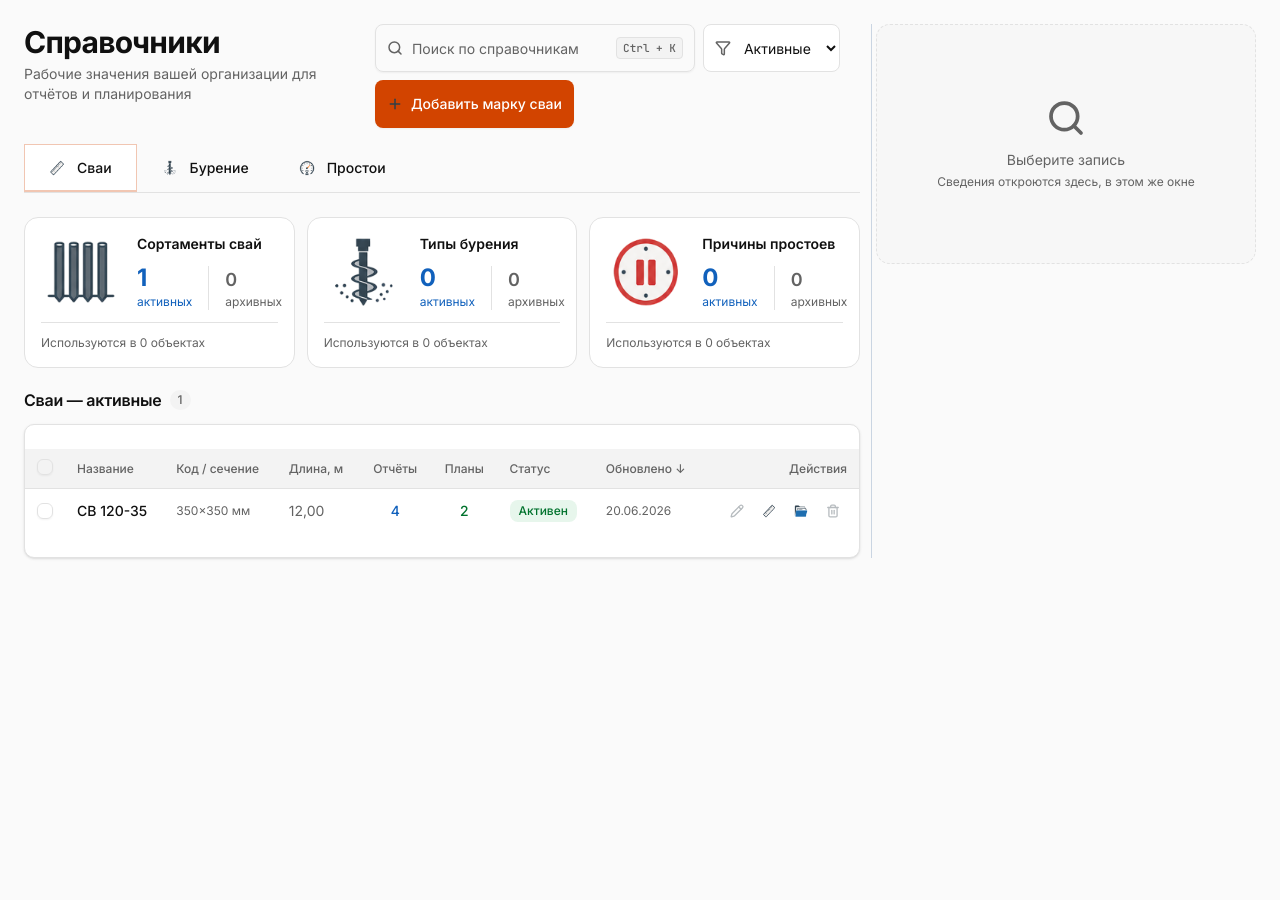
Test: AdminDictionaries › не даёт отправить название длиннее 100 символов и длину больше 1000 м
Check: the text "СВ 120-35" is shown, box [65,488,164,533]
Click the button "Добавить марку сваи": (474, 104) [375,80,574,128]
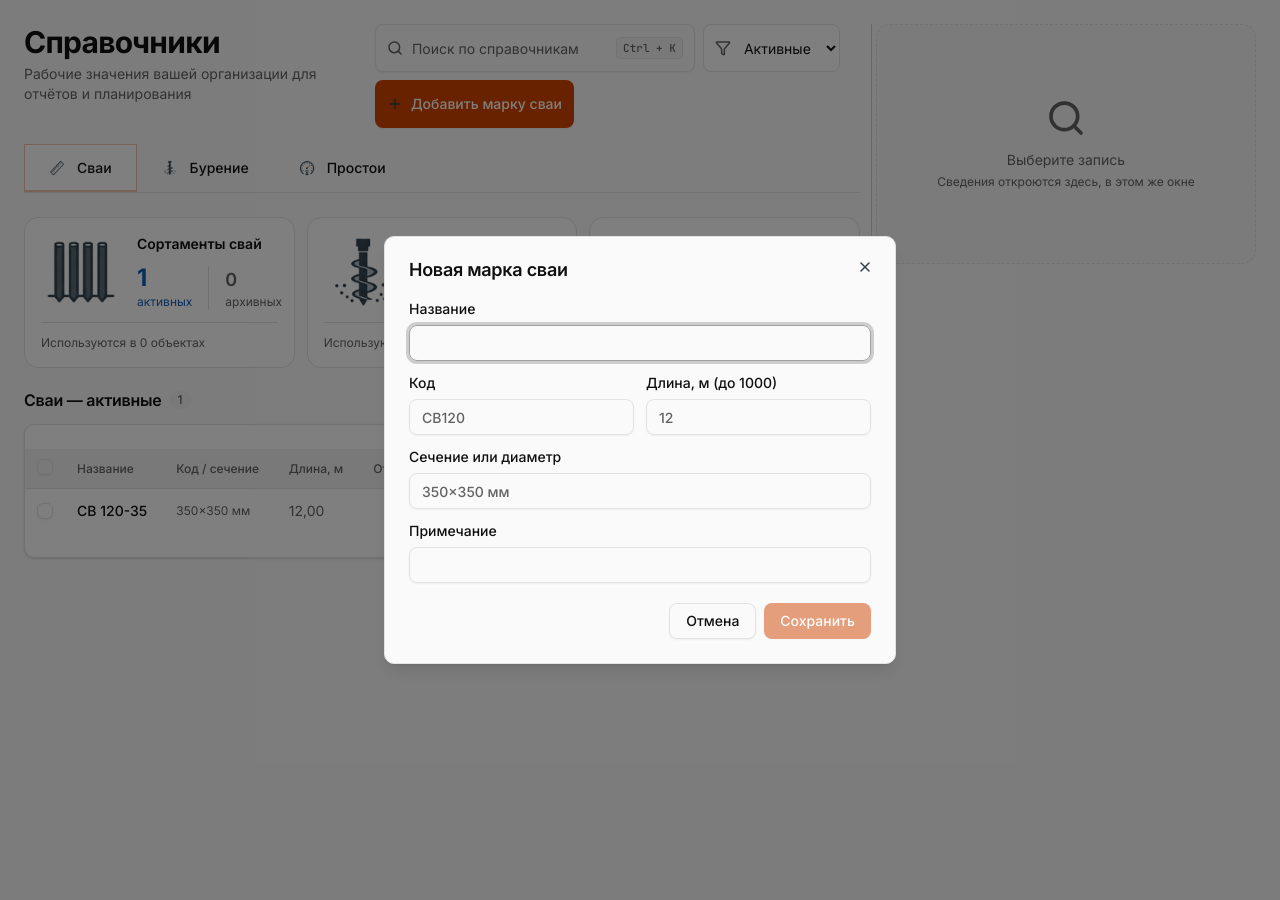
Check: the text "Длина, м (до 1000)" is shown, box [646,373,871,435]
In the field labelled "Название": (640, 343) [409,325,871,361], type "СВ 150-50"
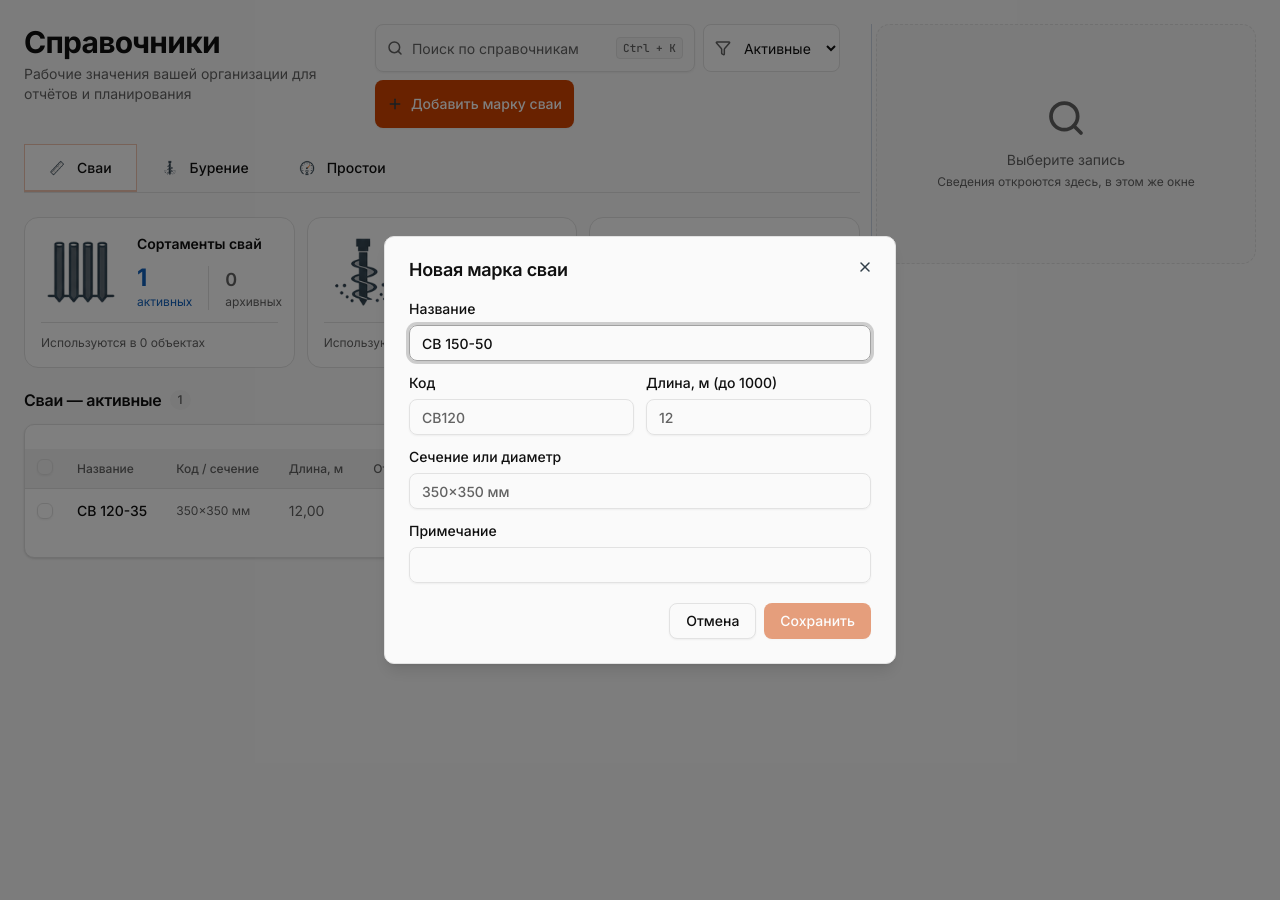
In the field labelled "Длина, м": (758, 417) [646,399,871,435], type "1500"
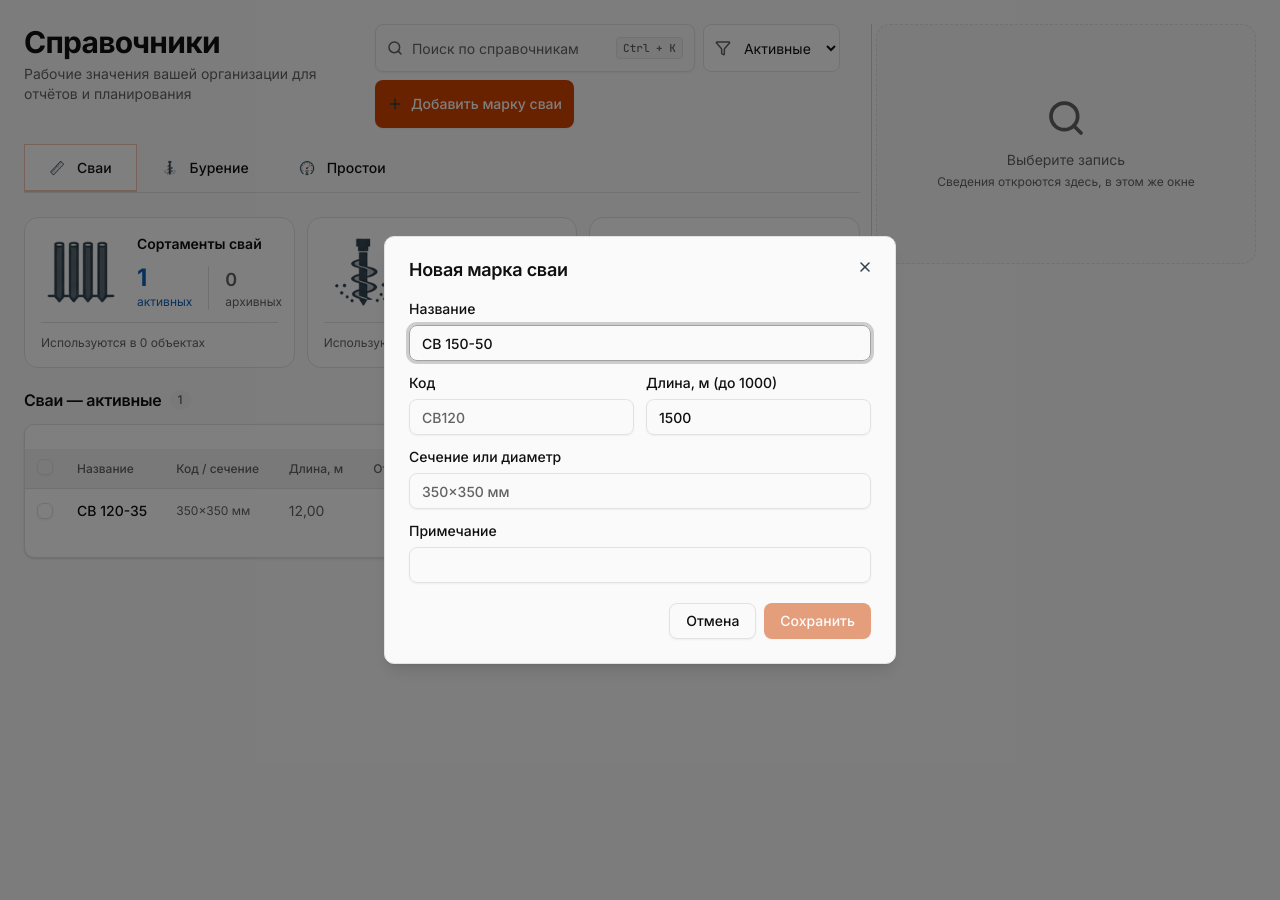
Check: the button "Сохранить" is disabled, box [764,603,871,639]
Replace the text in the field labelled "Длина, м" with "1000": (758, 417) [646,399,871,435]
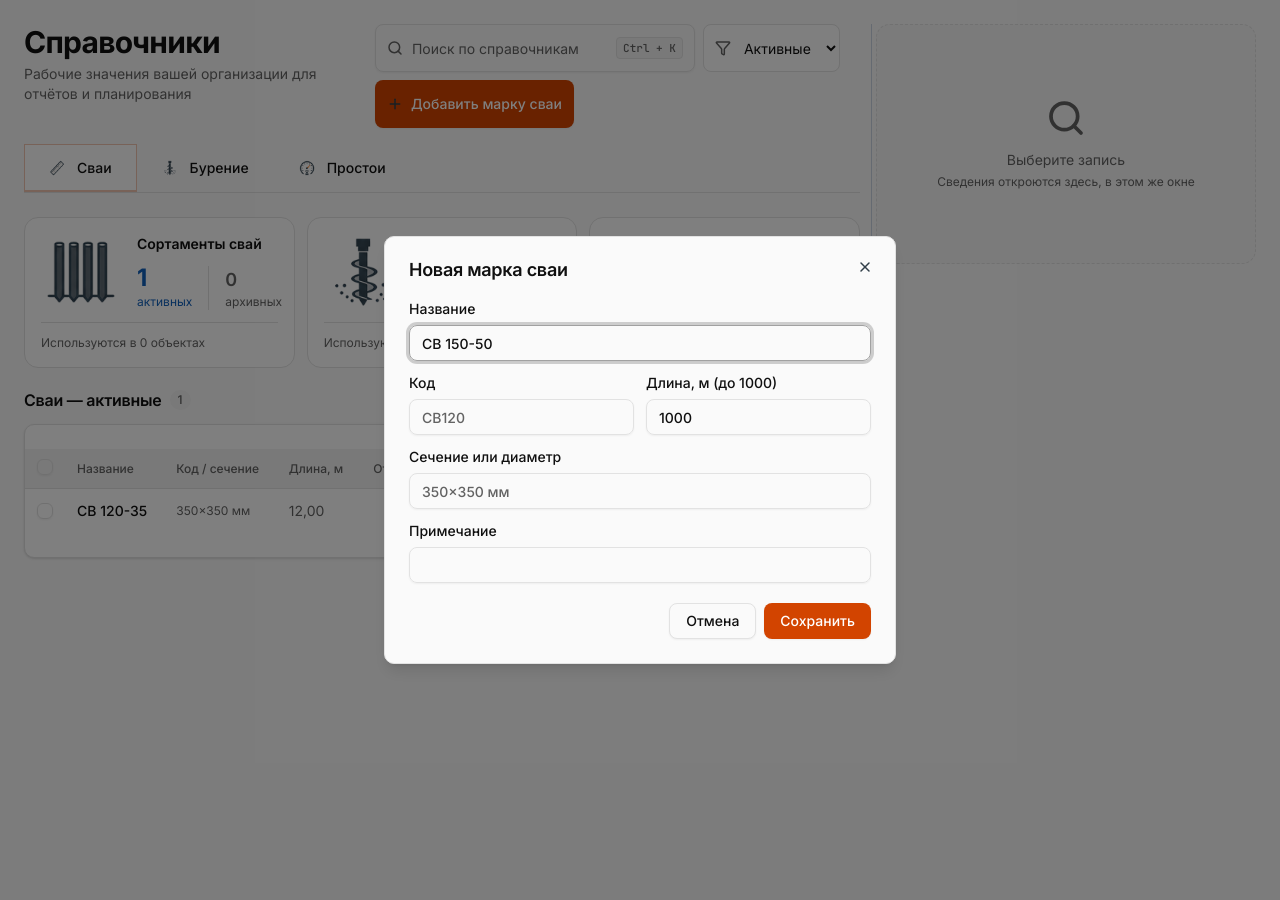
Check: the button "Сохранить" is enabled, box [764,603,871,639]
